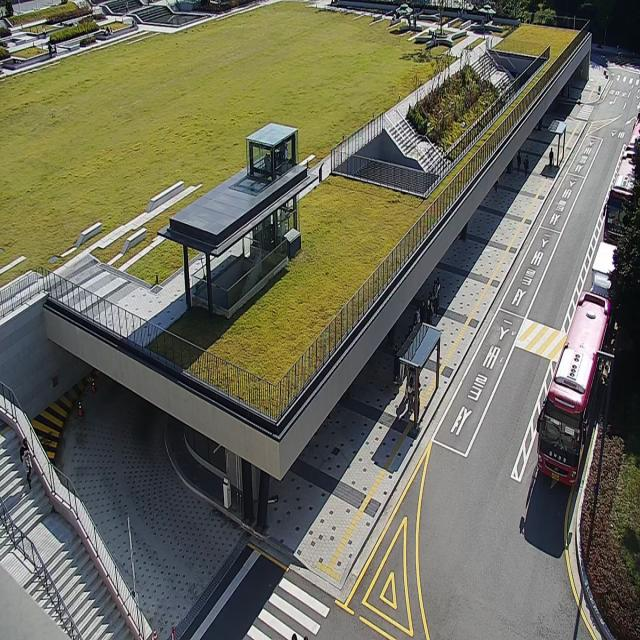queue: (415, 271, 441, 434)
